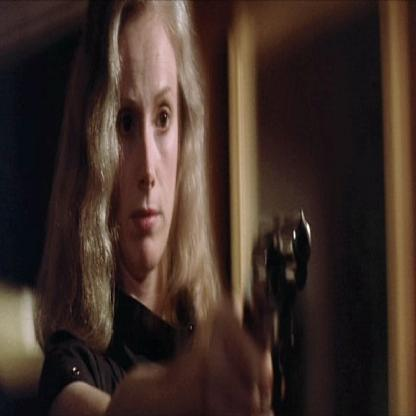gun: (242, 194, 320, 353)
